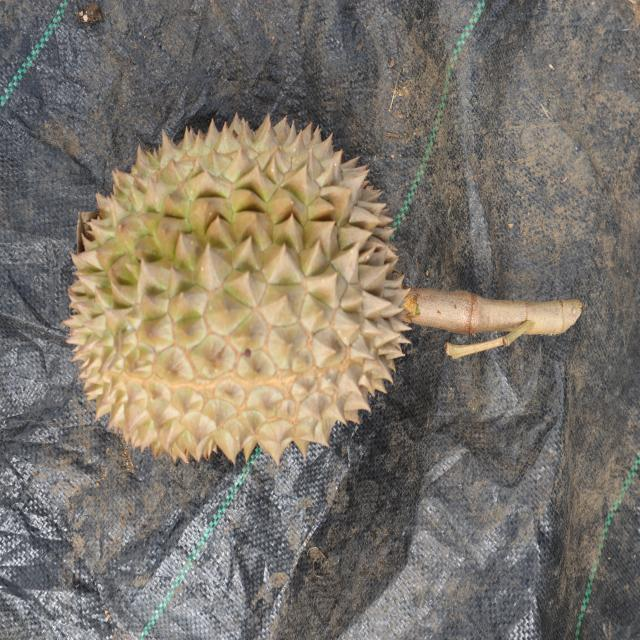mature: (62, 113, 414, 464)
